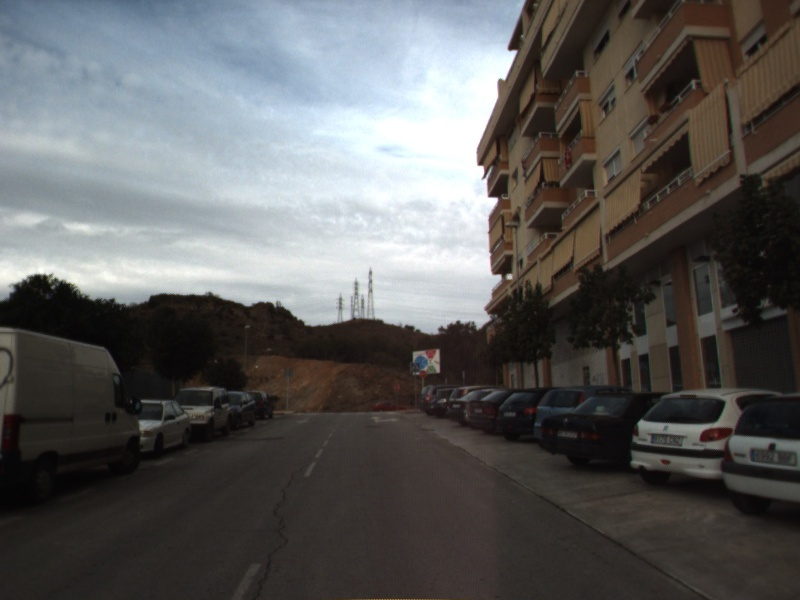STRAIGHT_RIGHT: (367, 414, 401, 425)
